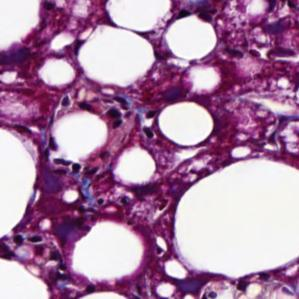inflammation: (100, 95, 157, 140), (242, 42, 299, 65), (8, 232, 50, 247), (46, 158, 84, 173)
